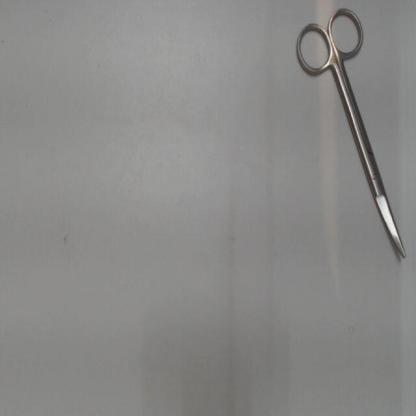Curved Mayo Scissors: (289, 1, 411, 264)
